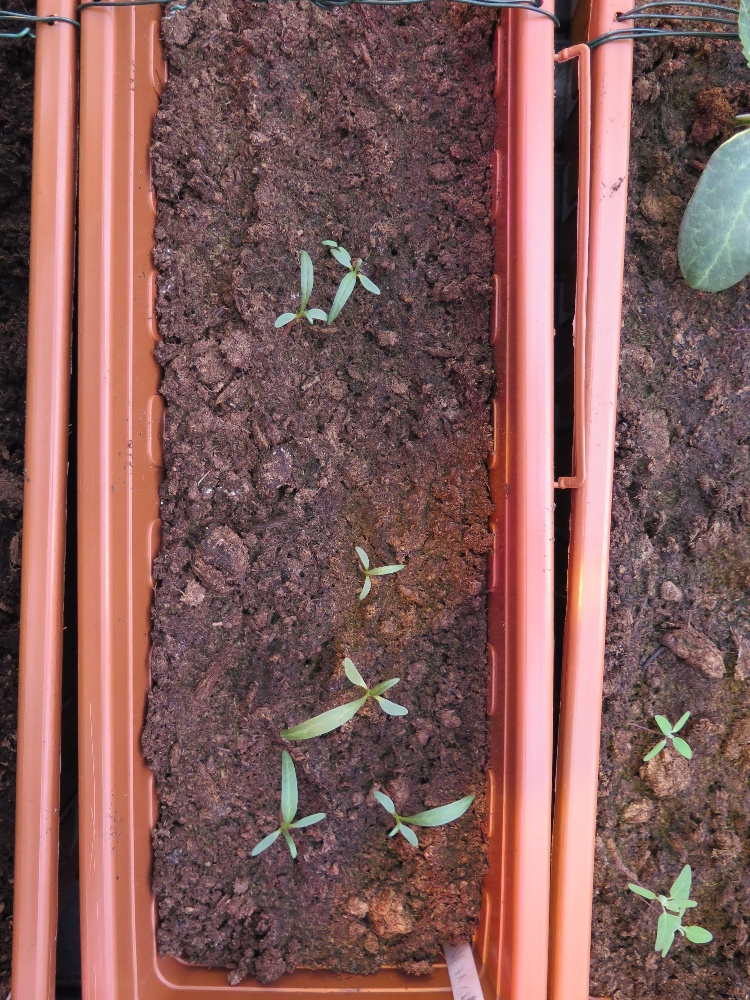weed: (260, 636, 433, 748), (233, 745, 333, 872), (366, 754, 479, 851), (621, 851, 721, 957), (279, 242, 366, 354), (333, 533, 418, 621), (627, 678, 703, 769), (321, 224, 394, 318)
